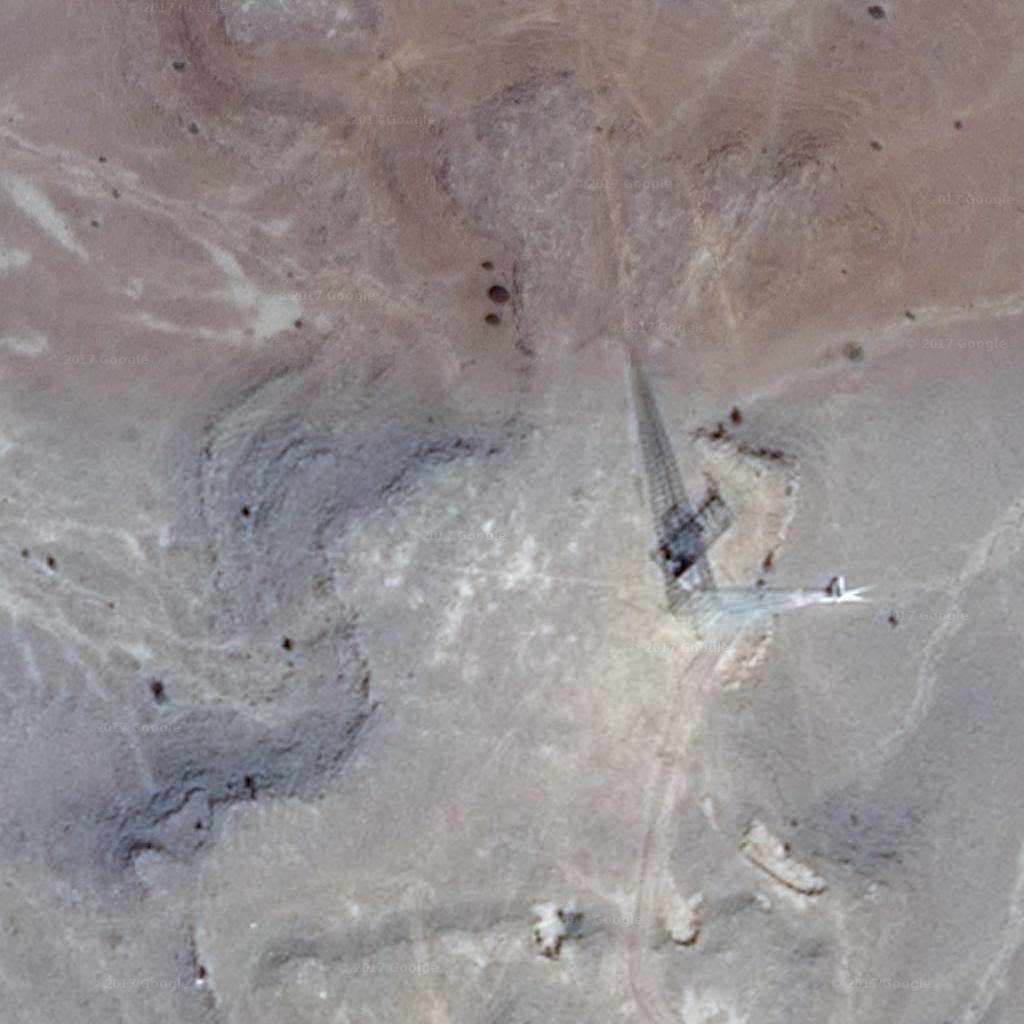Windmill: (610, 332, 725, 584)
